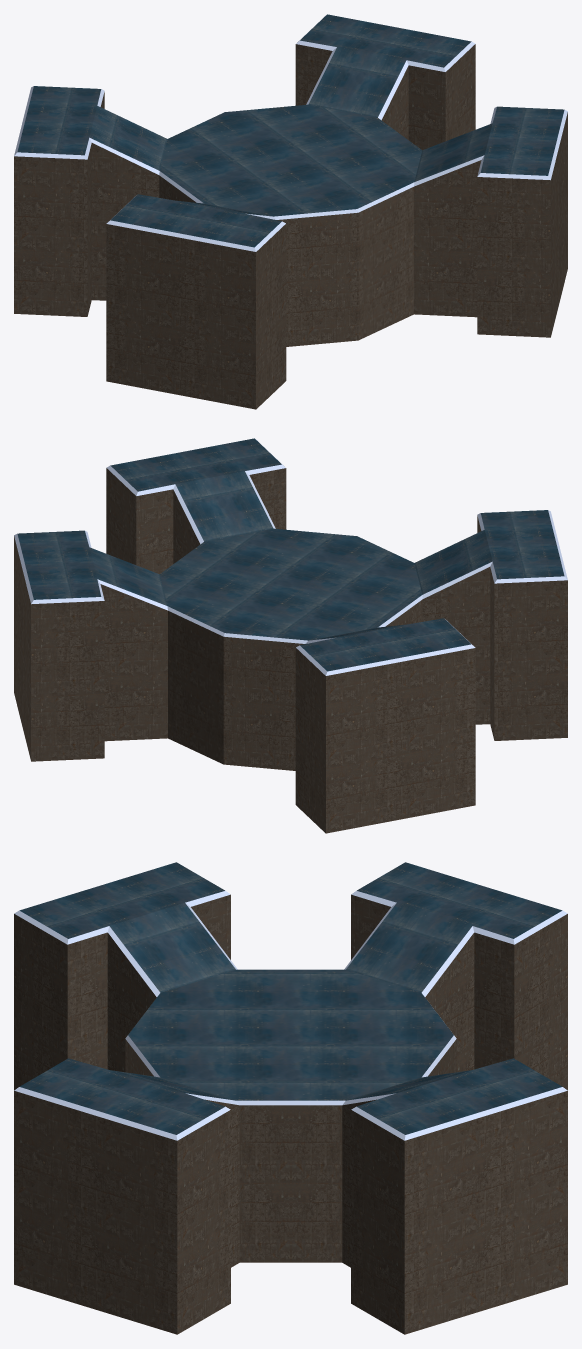
File: lobby_01.glb
3 views of the same model, one above another, from view 1: azimuth 30°, elevation 25°; view 2: azimuth 150°, elevation 25°; view 3: azimuth 270°, elevation 25° (orthographic). The views are drawn at different scales.
Parts seen in each view (by area): view 1: Lobby.001; view 2: Lobby.001; view 3: Lobby.001.
Part boxes in pixels (box(x1,y1,x2,y2)): Lobby.001: box(14, 14, 567, 409); Lobby.001: box(14, 438, 567, 833); Lobby.001: box(14, 862, 567, 1334).
Size of the model in its own units: 109 by 36.19 by 91.73.
Materials: 3 (2 with a texture image).
